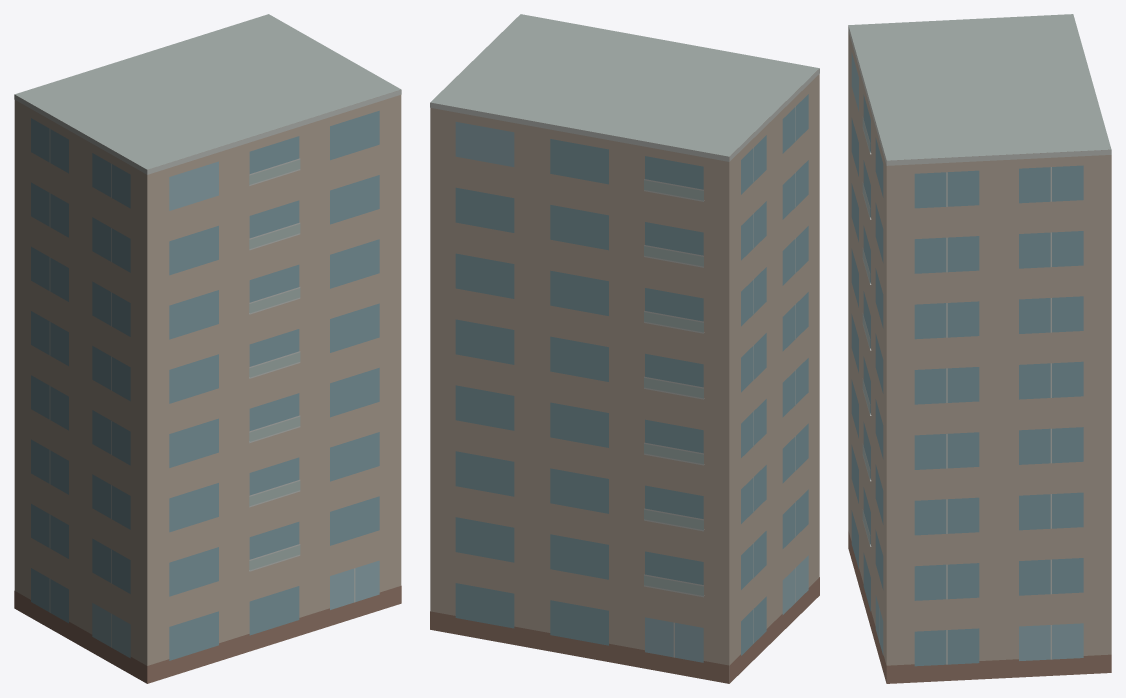
Rendered from survey-upis-32743715.glb.
The picture shows the model from 3 angles, left to right: view 1: azimuth 30°, elevation 25°; view 2: azimuth 150°, elevation 25°; view 3: azimuth 270°, elevation 25°; orthographic projection. The views are drawn at different scales.
Visible parts, largest first — view 1: survey-upis-32743715.tmp; view 2: survey-upis-32743715.tmp; view 3: survey-upis-32743715.tmp.
Boxes of the visible parts, x1,y1,x2,y2 form: survey-upis-32743715.tmp: (14,14,401,683); survey-upis-32743715.tmp: (430,14,819,683); survey-upis-32743715.tmp: (848,14,1111,683).
Size of the model in its own units: 14.67 by 24.4 by 11.13.
